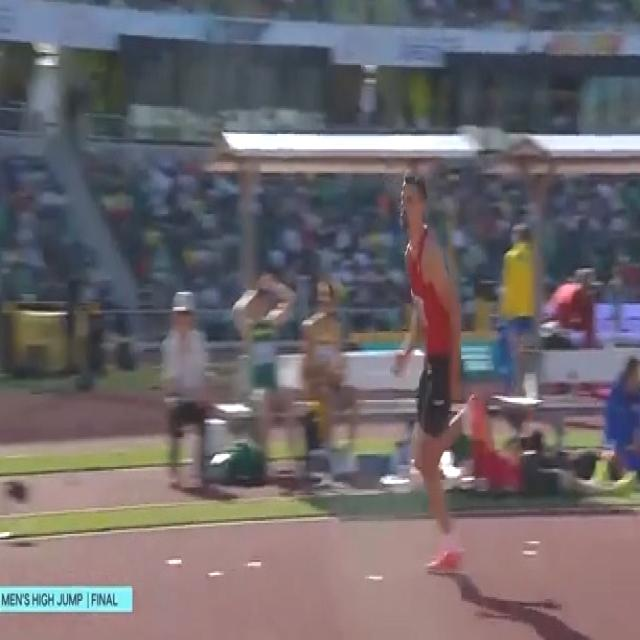run: (397, 170, 495, 577)
